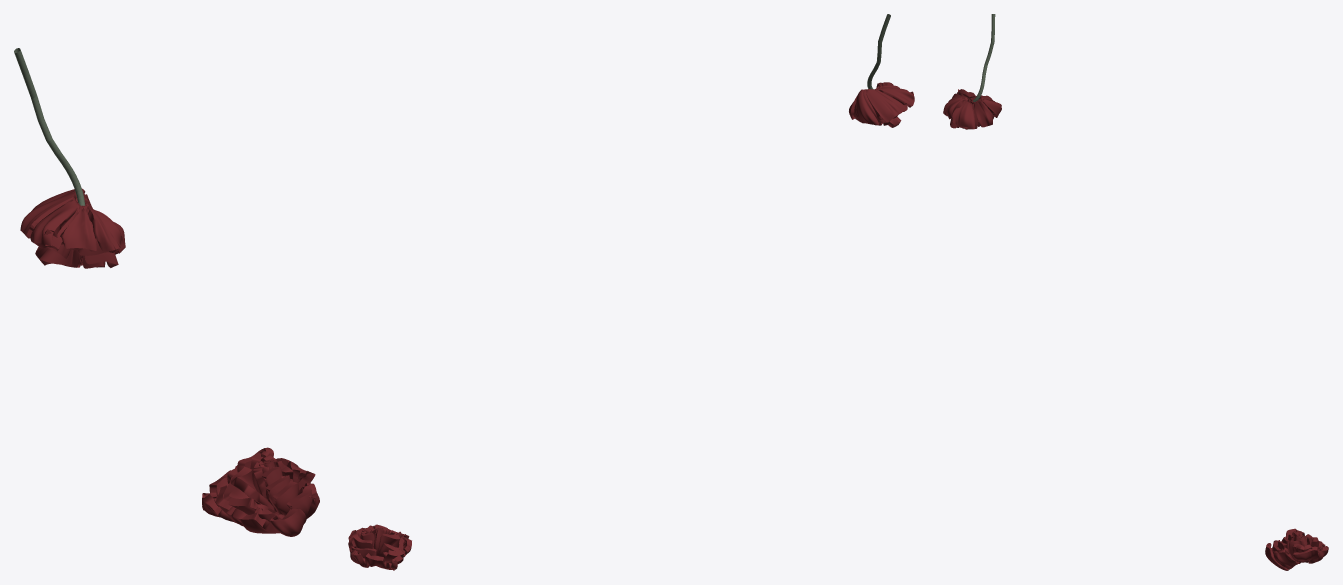
The model's file is Roses.glb.
3 views of the same model, side by side, from view 1: azimuth 30°, elevation 25°; view 2: azimuth 150°, elevation 25°; view 3: azimuth 270°, elevation 25° (orthographic). The views are drawn at different scales.
Visible parts, largest first — view 1: Rose_Hover, Rose.001_Hover; view 2: Rose_Hover, Rose.001_Hover; view 3: Rose_Hover, Rose.001_Hover.
Boxes of the visible parts, <box> form: Rose_Hover: <box>14,48,125,268</box>; Rose.001_Hover: <box>202,447,319,536</box>; Rose_Hover: <box>849,14,914,127</box>; Rose.001_Hover: <box>348,524,411,570</box>; Rose_Hover: <box>943,14,1001,129</box>; Rose.001_Hover: <box>1265,528,1328,570</box>.
Bounding box in the file's own units: 0.7461 × 0.9797 × 0.8171.
